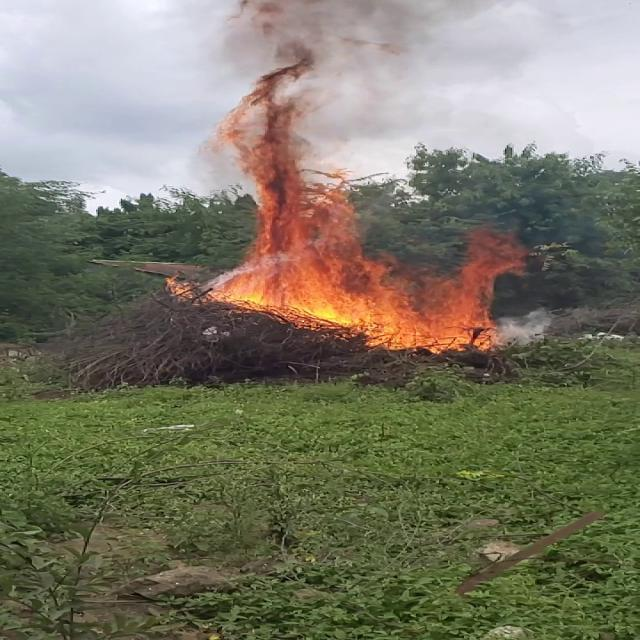Fire: (200, 188, 524, 350)
Smoke: (208, 1, 408, 196)
